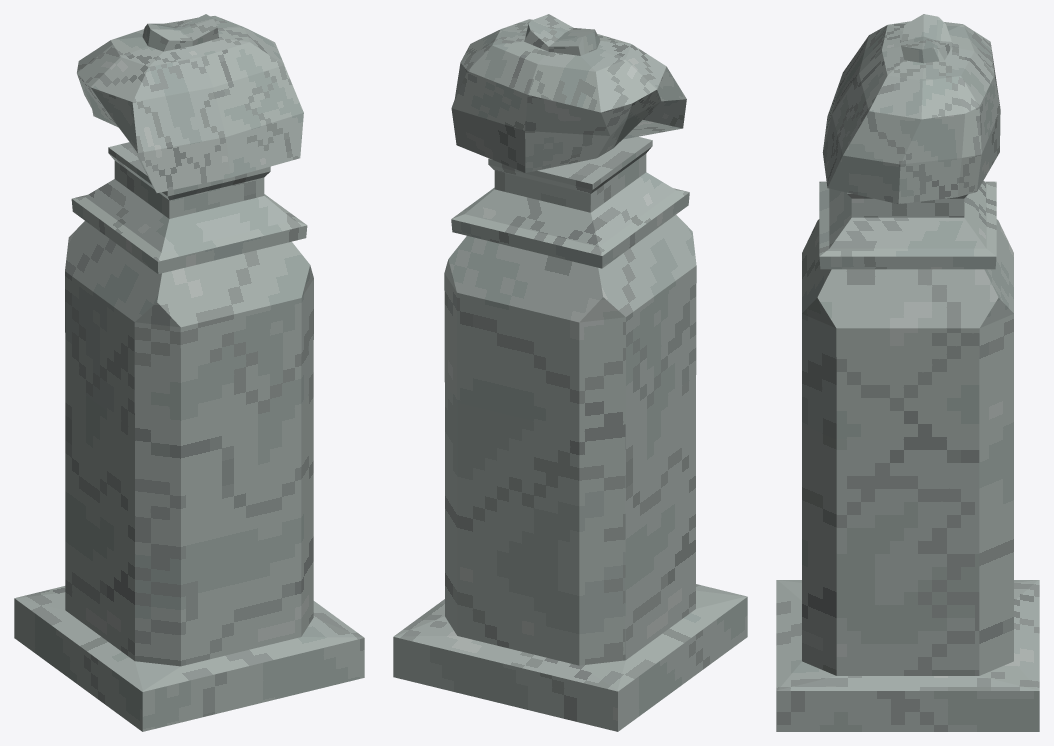
Rendered from Busto.glb.
3 views of the same model, side by side, from view 1: azimuth 30°, elevation 25°; view 2: azimuth 150°, elevation 25°; view 3: azimuth 270°, elevation 25° (orthographic). The views are drawn at different scales.
Parts seen in each view (by area): view 1: Columna-col, Columna-col.001; view 2: Columna-col, Columna-col.001; view 3: Columna-col, Columna-col.001.
Boxes of the visible parts, x1,y1,x2,y2 form: Columna-col: (14,142,364,731); Columna-col.001: (77,14,303,192); Columna-col: (393,136,747,731); Columna-col.001: (451,14,686,172); Columna-col: (776,181,1039,731); Columna-col.001: (822,14,1000,203).
Bounding box in the file's own units: 0.5491 × 1.49 × 0.5491.
1 material, 1 textured.
